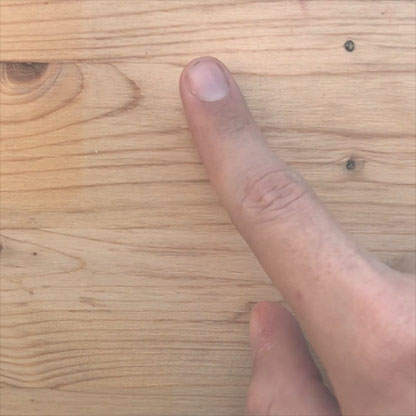fingertip: (163, 51, 245, 113)
